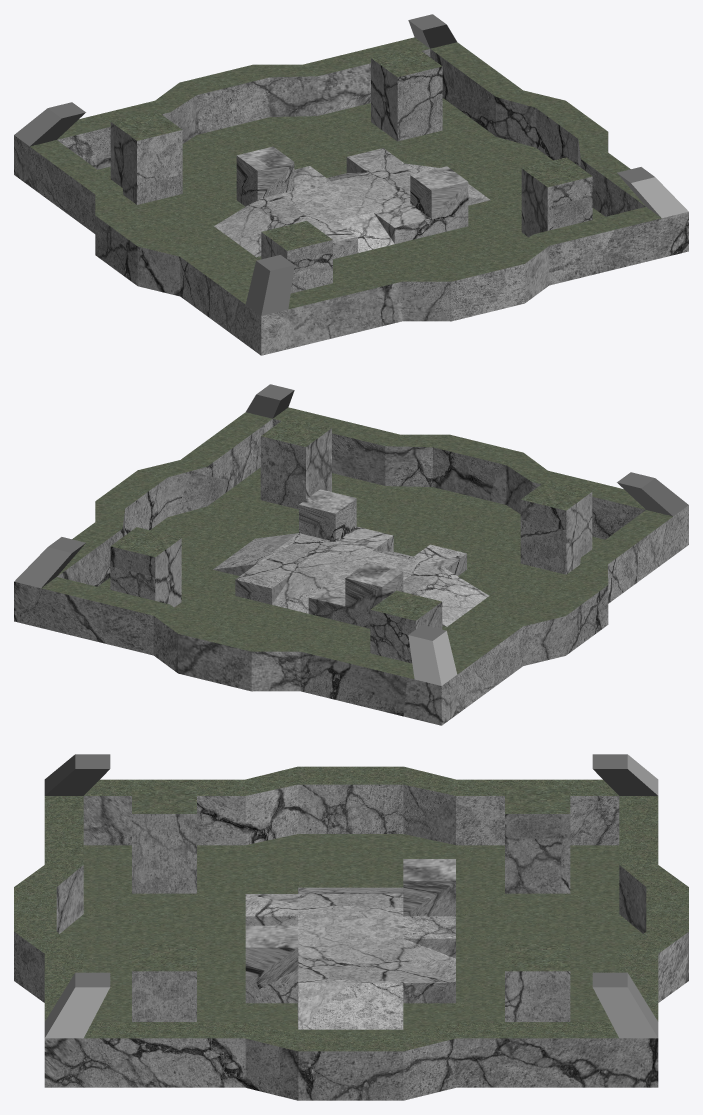
Rendered from multilvl.fbx.
3 renders of one model, top to bottom at view 1: azimuth 30°, elevation 25°; view 2: azimuth 150°, elevation 25°; view 3: azimuth 270°, elevation 25°, orthographic. The views are drawn at different scales.
Parts seen in each view (by area): view 1: Cube; view 2: Cube; view 3: Cube.
Part boxes in pixels (x1,y1,x2,y2): Cube: [14, 14, 688, 355]; Cube: [14, 384, 688, 725]; Cube: [14, 754, 688, 1100].
Size of the model in its own units: 1734 by 248 by 1737.
